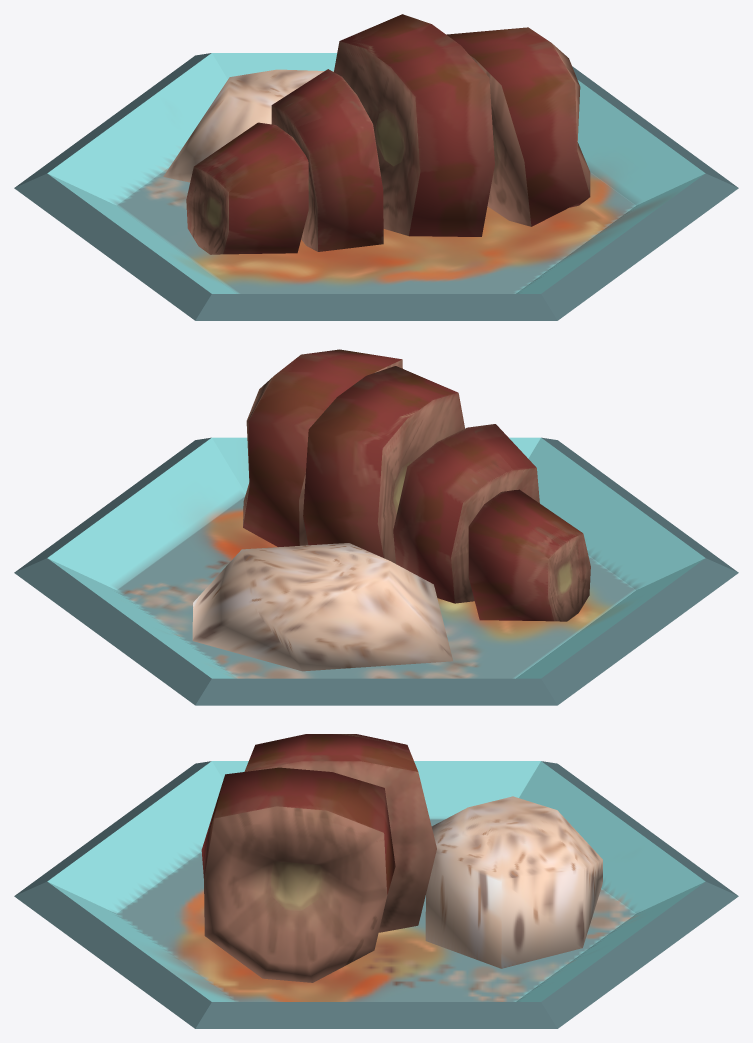
File: Prato Carne.fbx
3 views of the same model, one above another, from view 1: azimuth 30°, elevation 25°; view 2: azimuth 150°, elevation 25°; view 3: azimuth 270°, elevation 25° (orthographic).
Visible parts, largest first — view 1: PratoCarne, CarneAssada, Arroz; view 2: PratoCarne, CarneAssada, Arroz; view 3: PratoCarne, CarneAssada, Arroz.
Part boxes in pixels (x1,y1,x2,y2): PratoCarne: (14, 53, 738, 320); CarneAssada: (186, 14, 590, 254); Arroz: (163, 69, 333, 182); PratoCarne: (14, 437, 738, 705); CarneAssada: (243, 349, 590, 621); Arroz: (192, 543, 452, 671); PratoCarne: (14, 761, 738, 1028); CarneAssada: (201, 734, 436, 982); Arroz: (425, 796, 602, 968).
Size of the model in its own units: 173 by 60.31 by 200.
